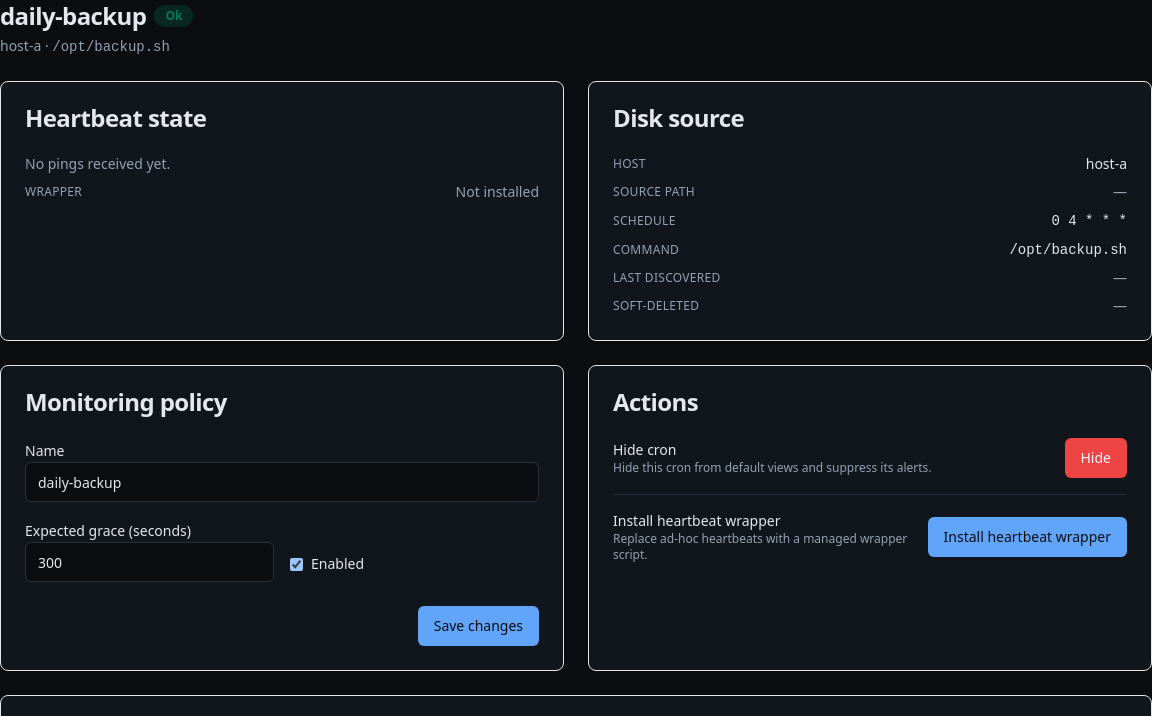
Scenario: CronDetail › clicking Install heartbeat wrapper button opens the modal for a local cron
Expected: the heading "daily-backup" is shown, x1=0 y1=0 x2=146 y2=32
Step 1. Click the button "Install heartbeat wrapper" → (1027, 537), box x1=928 y1=517 x2=1127 y2=557
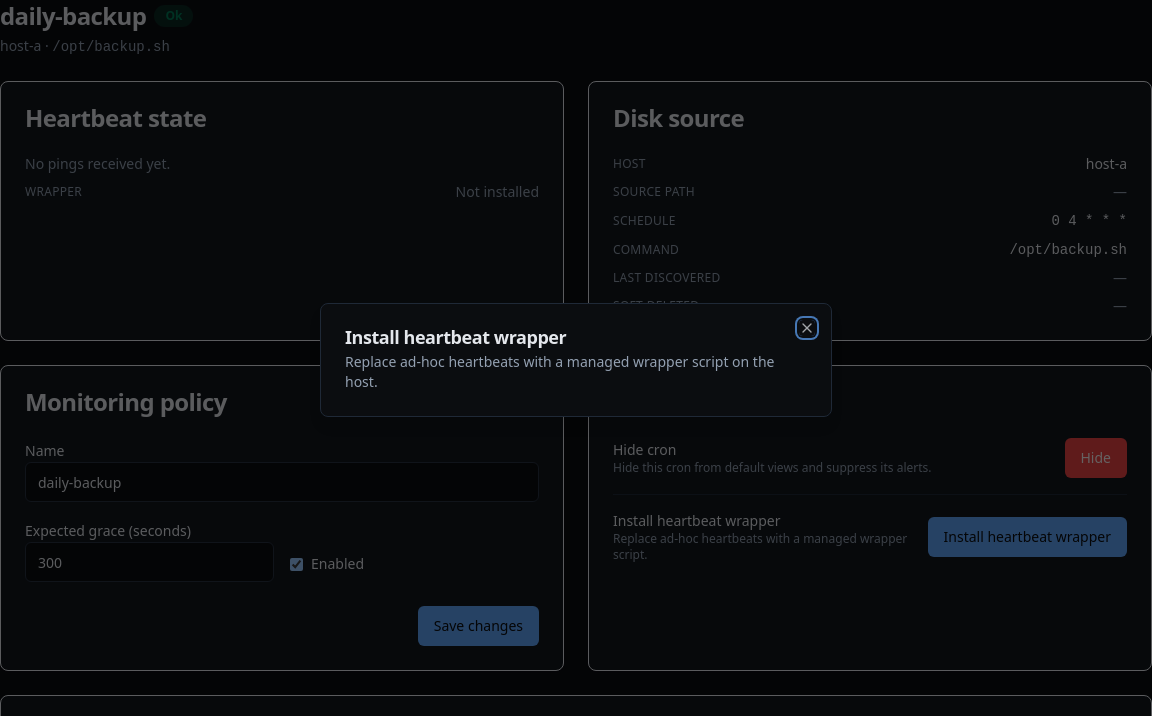
Now the heading "Install heartbeat wrapper" is shown, box x1=345 y1=325 x2=566 y2=349
